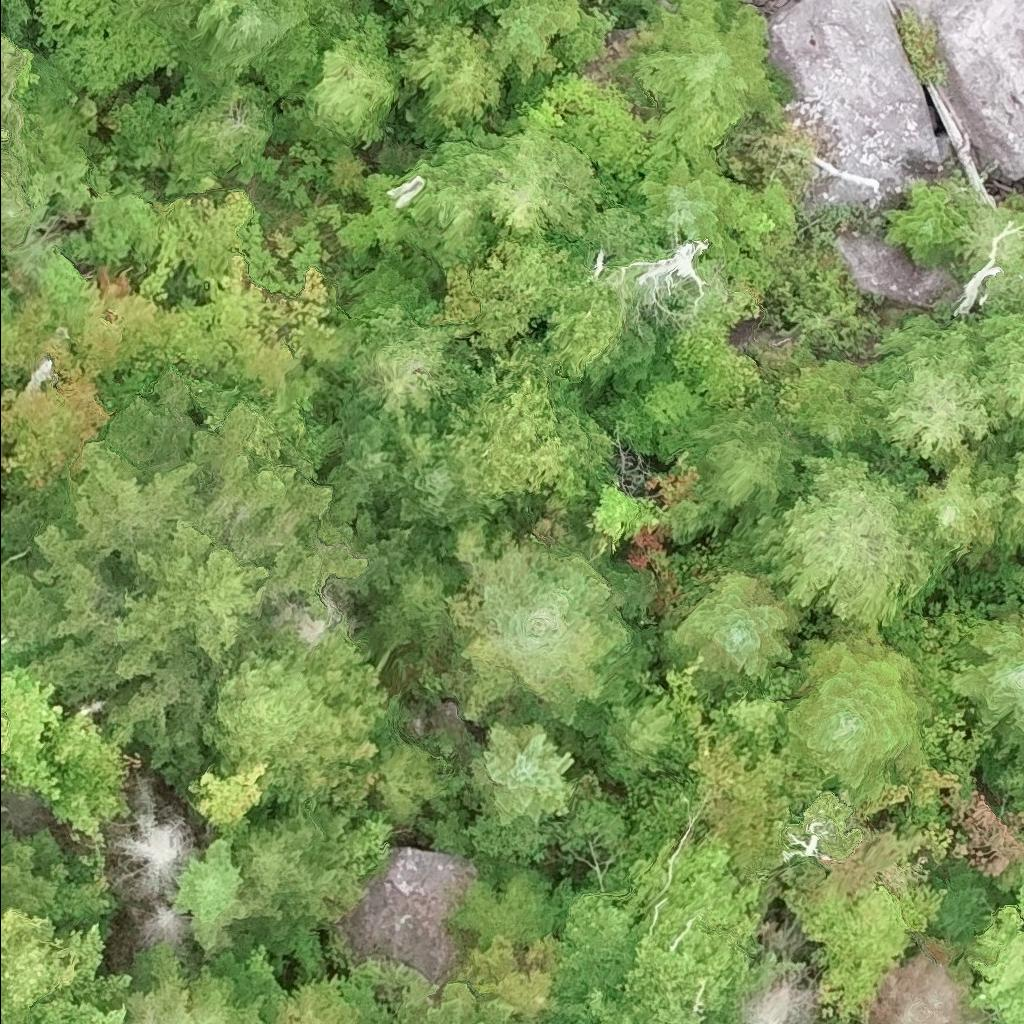crown: (6, 366, 366, 771), (550, 827, 804, 1023), (443, 517, 632, 725), (745, 443, 948, 627), (436, 341, 622, 514), (159, 250, 327, 411), (784, 627, 933, 801), (687, 721, 834, 882), (860, 313, 1006, 472), (682, 386, 829, 534), (798, 880, 949, 1023), (432, 236, 590, 355), (222, 802, 368, 928), (0, 333, 115, 487), (203, 648, 342, 774), (347, 300, 489, 416), (633, 0, 776, 110), (895, 444, 1017, 572), (667, 567, 802, 681), (396, 140, 502, 279), (481, 127, 602, 243), (126, 933, 277, 1023), (660, 286, 765, 413), (294, 36, 406, 147), (374, 540, 472, 666), (85, 192, 196, 302), (411, 17, 505, 146), (102, 772, 195, 902), (28, 919, 134, 1023), (471, 719, 573, 826), (0, 903, 84, 1023), (173, 78, 272, 179), (42, 714, 127, 831), (539, 272, 622, 386), (169, 836, 247, 957), (946, 611, 1023, 732), (637, 155, 736, 249), (643, 89, 746, 175), (0, 662, 64, 799), (863, 954, 990, 1023), (789, 359, 882, 451), (0, 21, 38, 244), (336, 381, 409, 496), (381, 454, 481, 536), (73, 291, 165, 380), (480, 0, 576, 85), (968, 879, 1023, 1023), (882, 182, 968, 268), (169, 188, 250, 275), (373, 739, 455, 823), (602, 688, 679, 777), (974, 312, 1023, 446), (586, 319, 664, 393), (186, 761, 269, 827), (587, 483, 666, 549), (0, 839, 59, 913), (275, 974, 364, 1023), (399, 993, 539, 1023), (741, 972, 820, 1023), (343, 810, 395, 880), (125, 898, 190, 953), (995, 445, 1023, 555), (0, 567, 43, 632), (63, 996, 128, 1023), (993, 723, 1023, 765), (125, 0, 176, 23), (0, 708, 12, 757), (1012, 787, 1023, 806), (0, 802, 6, 813), (0, 758, 5, 766), (0, 788, 2, 793)
